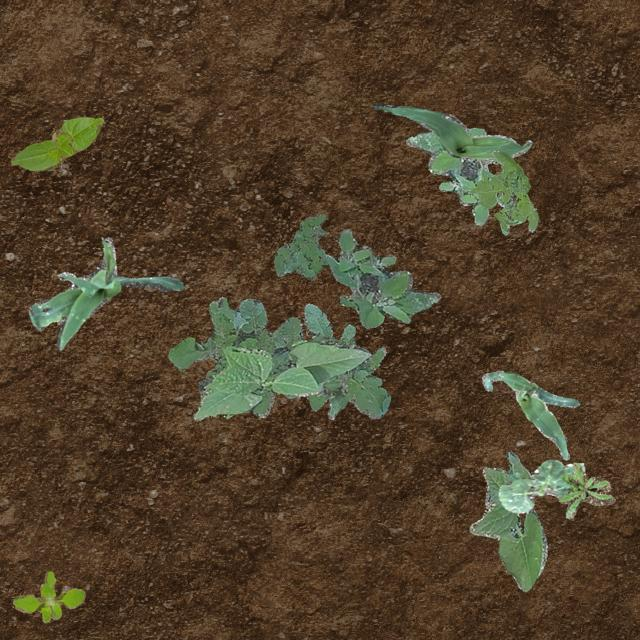crop: (28, 235, 182, 348), (192, 336, 370, 420), (468, 450, 546, 590), (372, 102, 532, 158), (481, 369, 578, 458), (9, 116, 102, 170), (498, 458, 584, 512), (314, 376, 348, 418)
weed: (166, 296, 390, 418), (322, 228, 440, 328), (406, 128, 512, 225), (466, 150, 536, 233), (12, 570, 84, 622), (272, 212, 326, 280), (558, 462, 614, 518)
